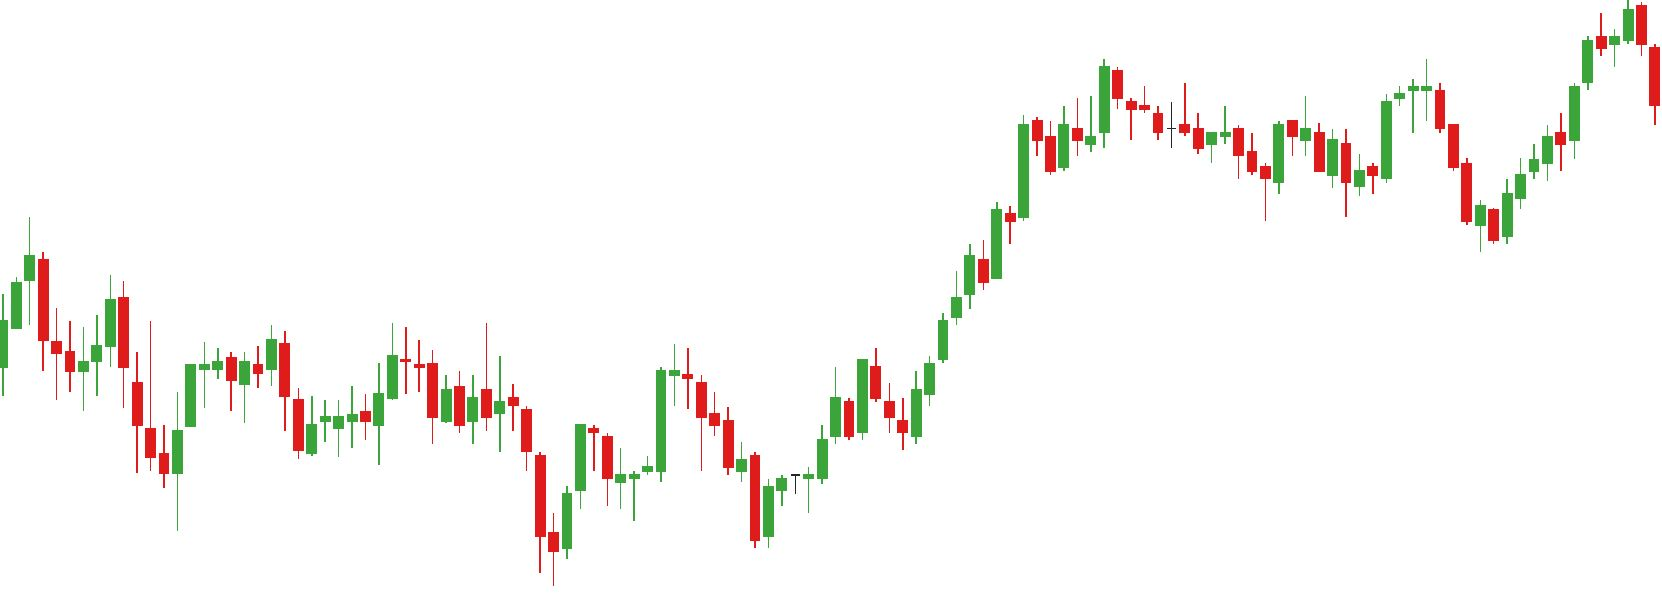buy: (627, 394, 780, 563)
sell: (1299, 53, 1446, 151)
